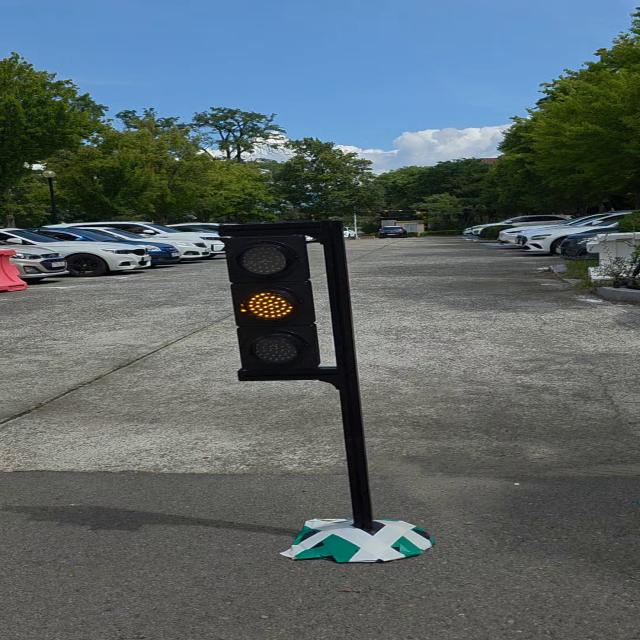yellow: (216, 224, 329, 382)
